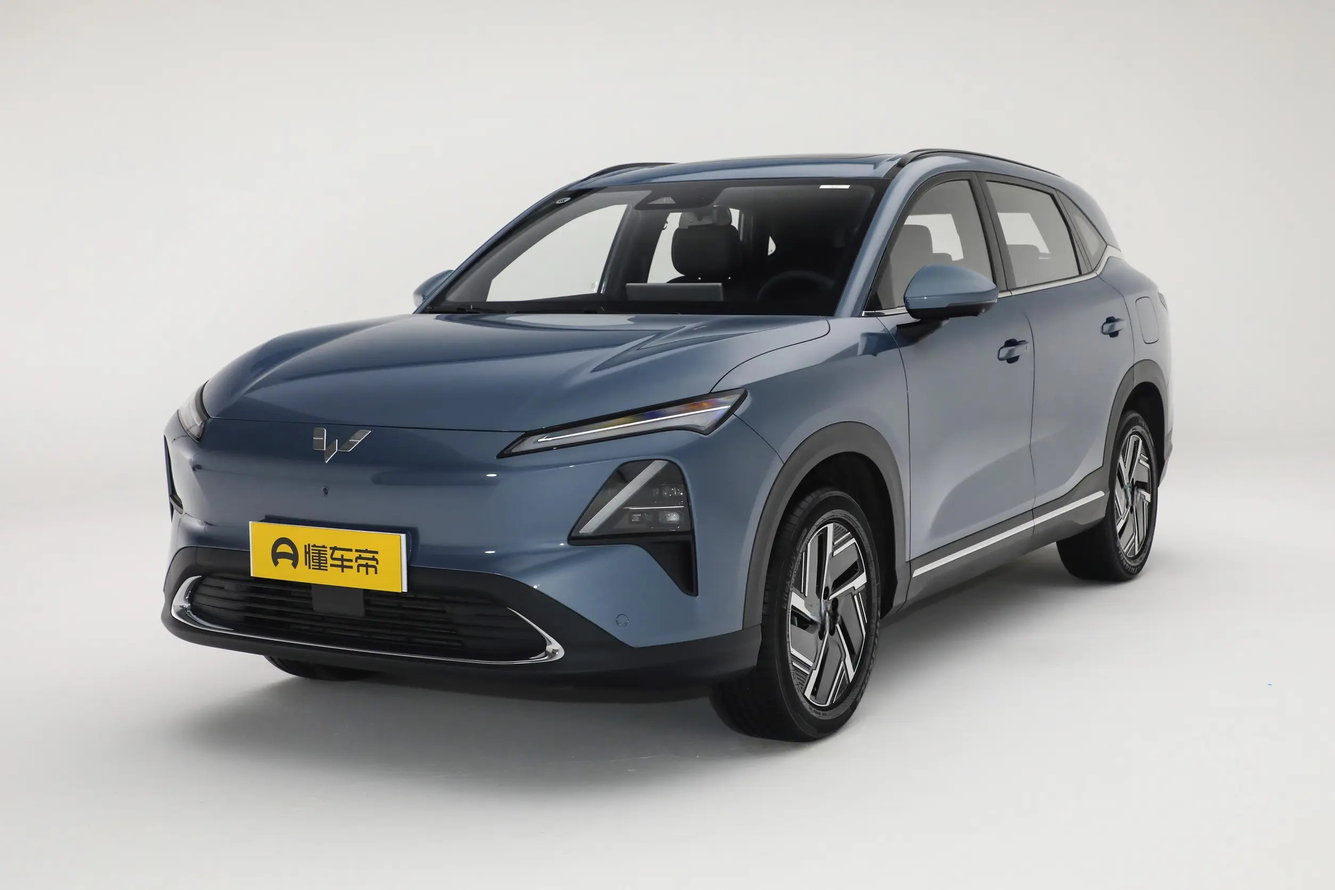SGMW: (314, 427, 370, 462)
